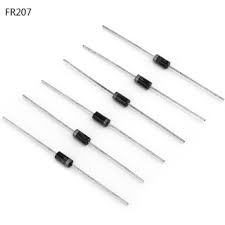diode: (45, 143, 84, 173), (61, 119, 93, 148), (101, 82, 134, 109), (143, 49, 177, 73), (126, 72, 160, 94), (78, 108, 113, 129)
